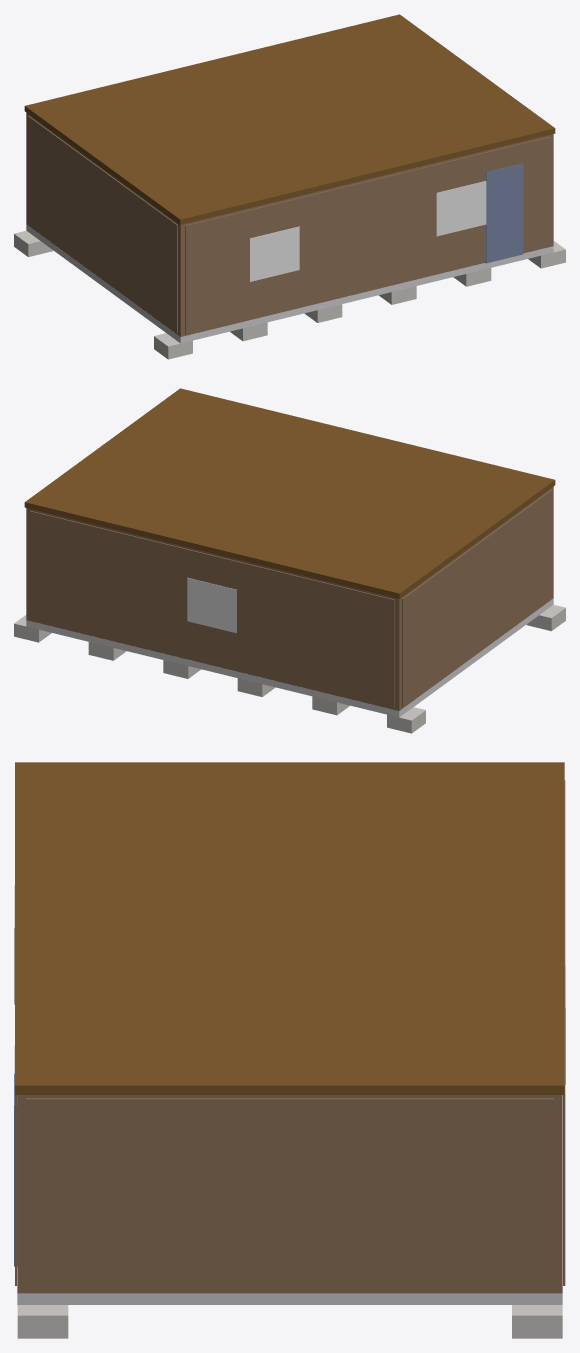
Rendered from Studio-30-Base-DarkBrown-LOD3.glb.
3 renders of one model, top to bottom at view 1: azimuth 30°, elevation 25°; view 2: azimuth 150°, elevation 25°; view 3: azimuth 270°, elevation 25°, orthographic. The views are drawn at different scales.
Parts seen in each view (by area): view 1: RoofMain, ExteriorPanelsStandard, WindowsStandard, BaseFrame, FoundationBlocks, ExteriorShell, EntryDoor; view 2: RoofMain, ExteriorPanelsStandard, BaseFrame, ExteriorShell, FoundationBlocks, WindowsStandard; view 3: RoofMain, ExteriorPanelsStandard, ExteriorShell, BaseFrame, FoundationBlocks.
Part boxes in pixels (left/top/right/bottom): RoofMain: left=24, top=14, right=555, bottom=224; ExteriorPanelsStandard: left=27, top=115, right=549, bottom=334; WindowsStandard: left=249, top=181, right=486, bottom=281; BaseFrame: left=26, top=224, right=553, bottom=343; FoundationBlocks: left=14, top=230, right=565, bottom=359; ExteriorShell: left=26, top=112, right=553, bottom=336; EntryDoor: left=485, top=163, right=523, bottom=263; RoofMain: left=24, top=388, right=555, bottom=598; ExteriorPanelsStandard: left=30, top=489, right=552, bottom=708; BaseFrame: left=26, top=598, right=553, bottom=717; ExteriorShell: left=26, top=486, right=553, bottom=710; FoundationBlocks: left=14, top=604, right=565, bottom=733; WindowsStandard: left=187, top=577, right=236, bottom=633; RoofMain: left=15, top=762, right=564, bottom=1094; ExteriorPanelsStandard: left=15, top=780, right=565, bottom=1290; ExteriorShell: left=17, top=1095, right=562, bottom=1293; BaseFrame: left=17, top=1293, right=562, bottom=1304; FoundationBlocks: left=17, top=1305, right=562, bottom=1338.
Bounding box in the file's own units: 9.6 × 3.17 × 6.53.
